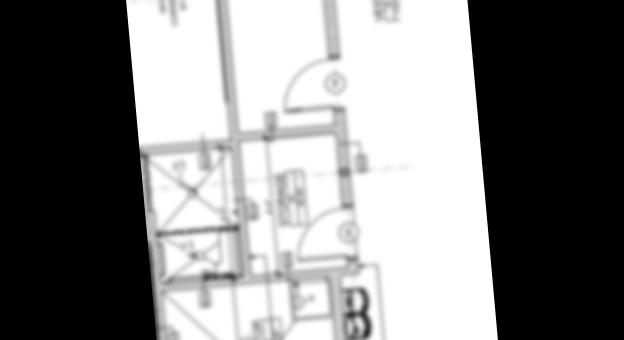door: (290, 203, 349, 265), (278, 55, 337, 115), (327, 275, 355, 340)
wall: (209, 0, 253, 280), (160, 263, 364, 295), (148, 207, 182, 340), (330, 100, 359, 212), (238, 122, 337, 144), (309, 0, 343, 62), (140, 137, 234, 157)
